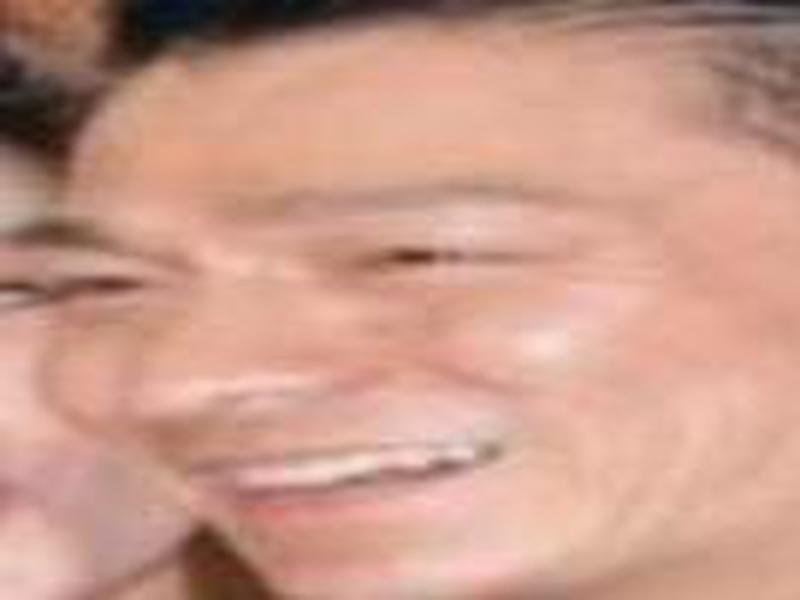without_mask: (40, 33, 787, 599)
